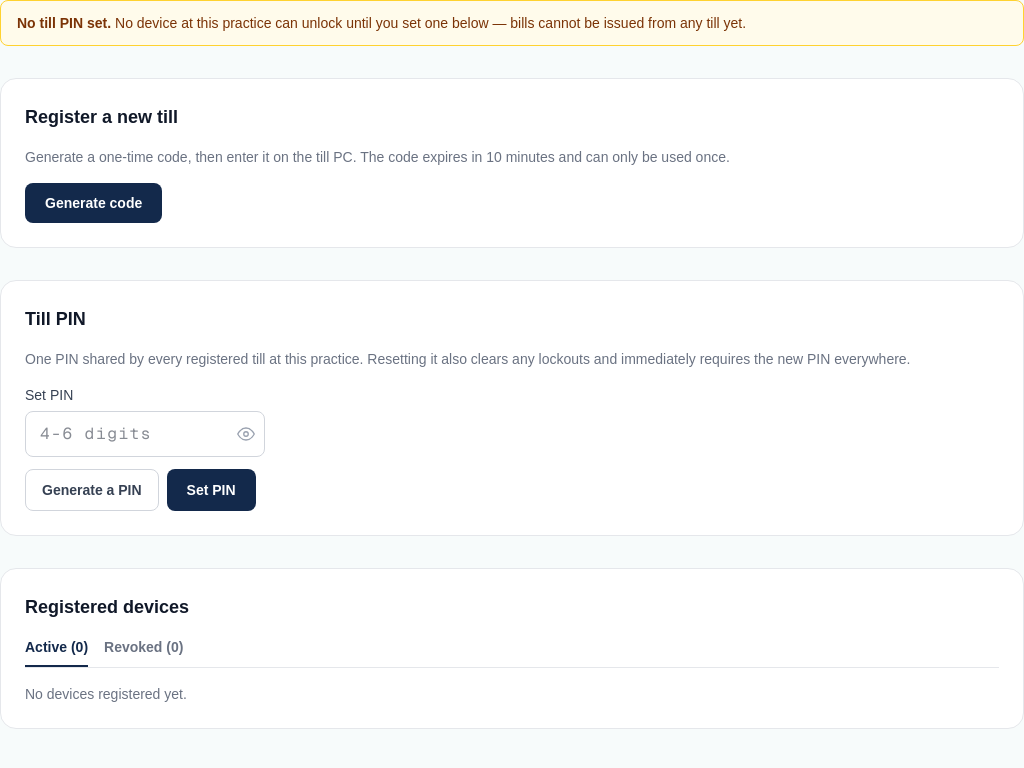
DeviceAdminView — Set PIN vs Reset PIN label › flips to "Reset PIN" immediately after a successful save via the generator path
The width and height of the screenshot is (1024, 768).
Click the button with test id "till-pin-generate".
click(92, 490)  # box [25,469,159,511]
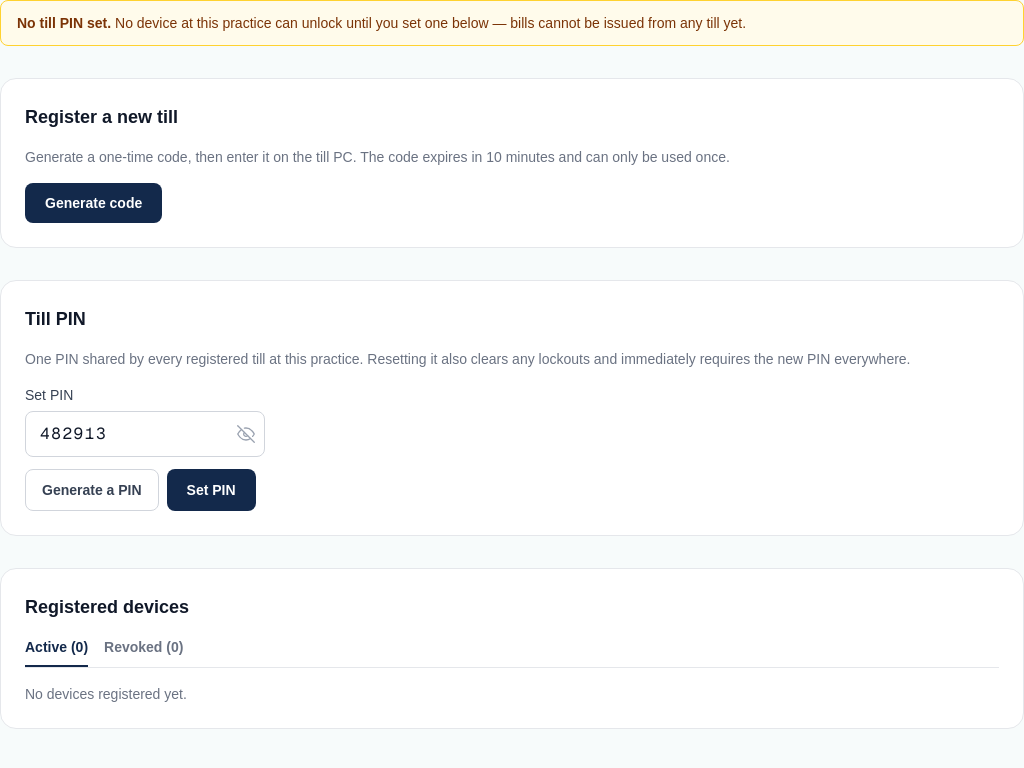
Now the field with test id "till-pin-input" holds "482913", box [25,411,265,457]
Submit the form with test id "till-pin-input", box [25,387,265,511]
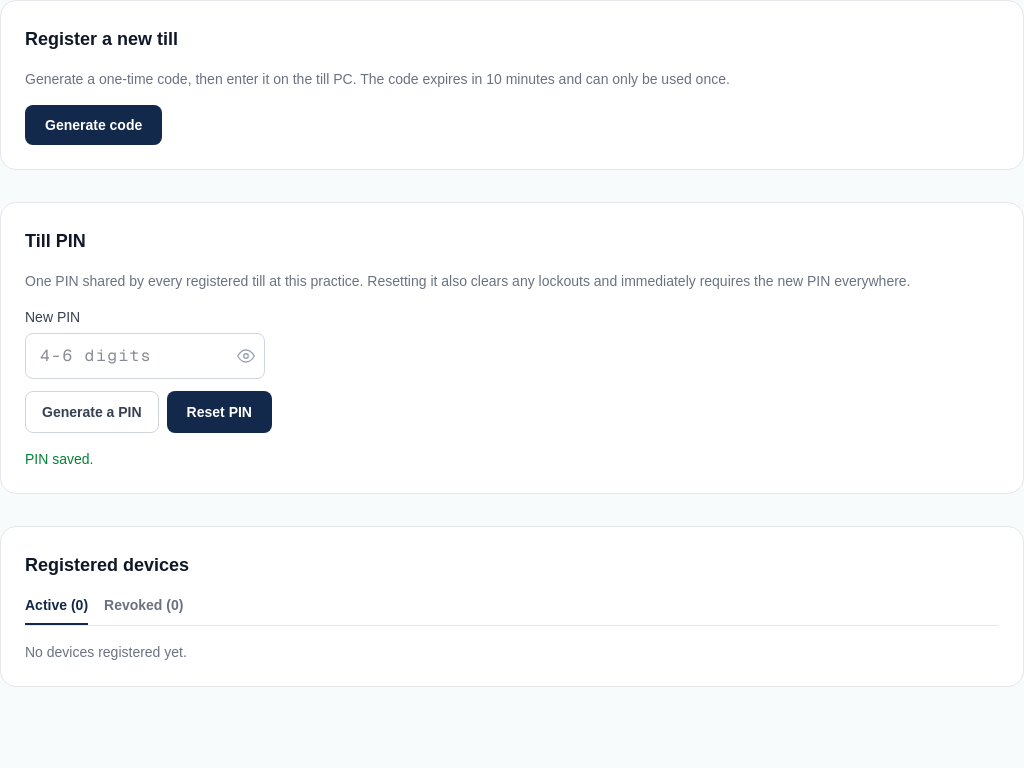
Now the button with test id "till-pin-submit" reads "Reset PIN", box [167,391,272,433]
